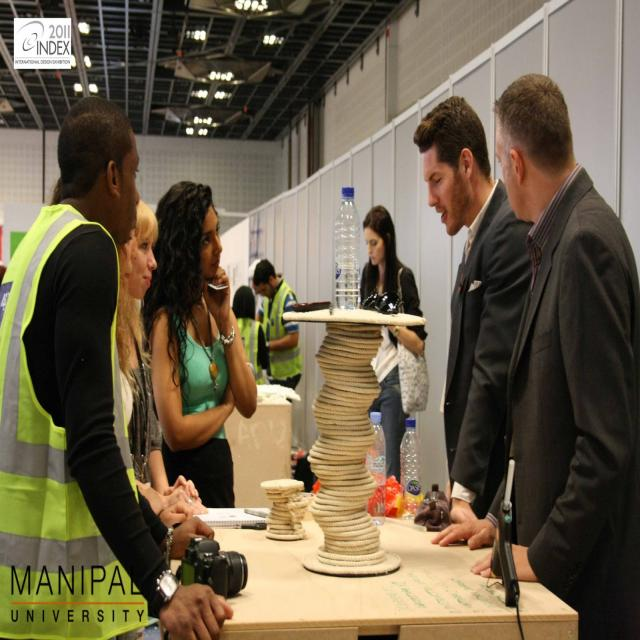body: (0, 89, 236, 639), (428, 74, 640, 639), (414, 95, 537, 527), (148, 181, 258, 509), (114, 202, 208, 526), (359, 205, 428, 486), (256, 258, 302, 404), (231, 284, 272, 386)
